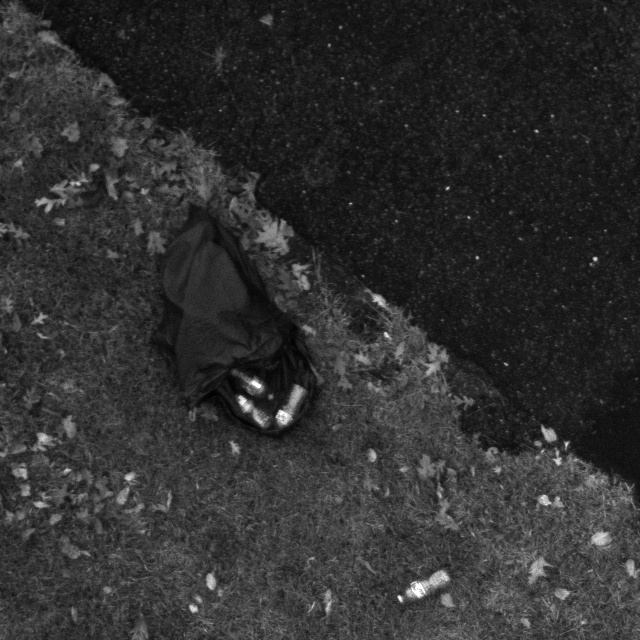bottle: (389, 562, 454, 616), (270, 381, 313, 436)
